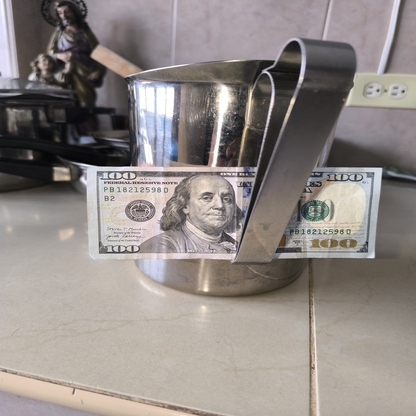one_hundred-front: (87, 165, 384, 263)
